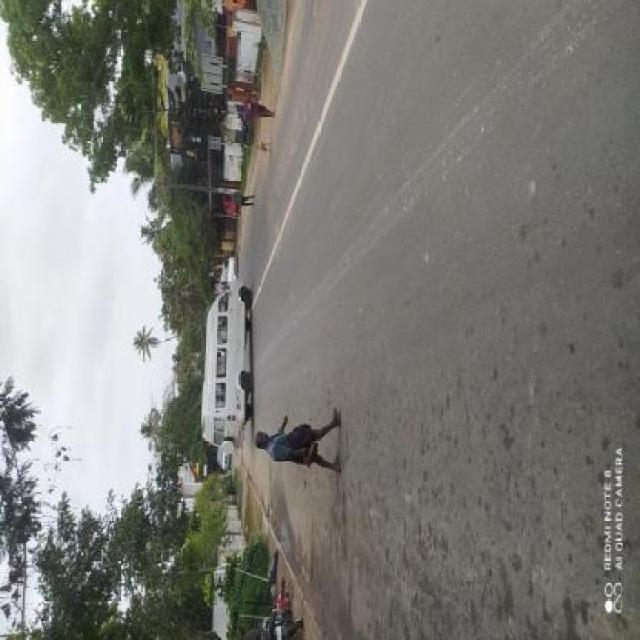person: (238, 422, 390, 482)
